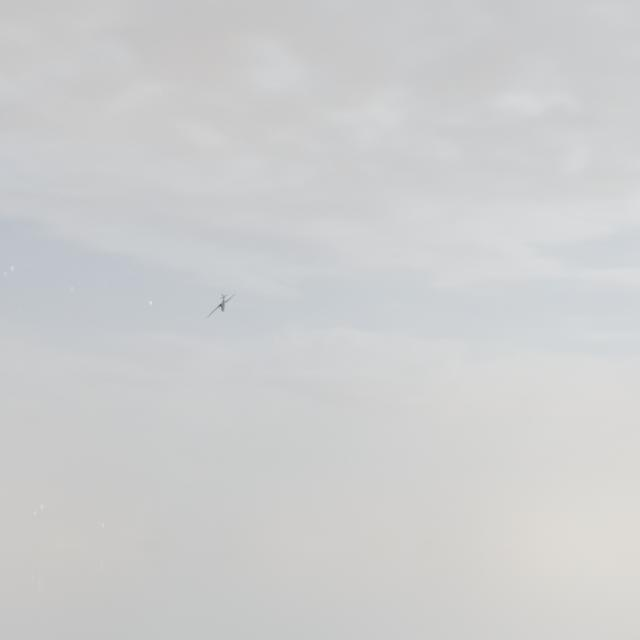Airaplan: (207, 293, 235, 319)
